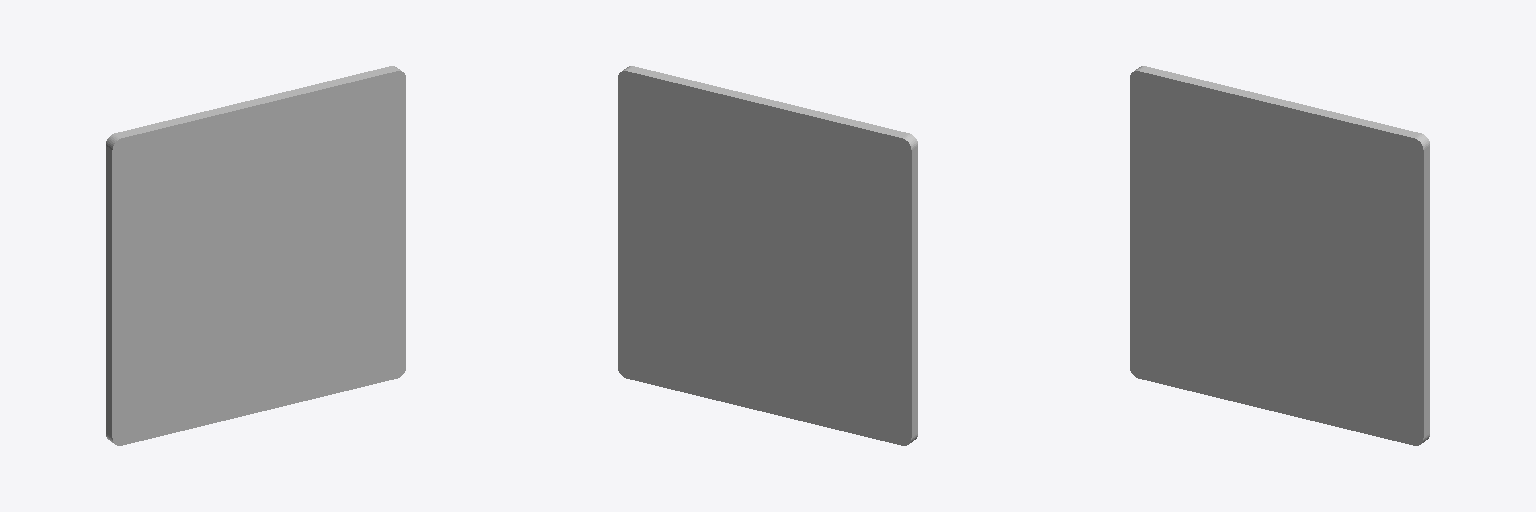
File: bracket_horizontal_large.obj
The picture shows the model from 3 angles: view 1: azimuth 30°, elevation 25°; view 2: azimuth 150°, elevation 25°; view 3: azimuth 330°, elevation 25°; orthographic projection.
Visible parts, largest first — view 1: obj1; view 2: obj1; view 3: obj1.
Part boxes in pixels (left/top/right/bottom): obj1: left=106, top=66, right=405, bottom=445; obj1: left=618, top=66, right=917, bottom=445; obj1: left=1130, top=66, right=1429, bottom=445.
Size of the model in its own units: 0.158 by 0.158 by 0.0063.